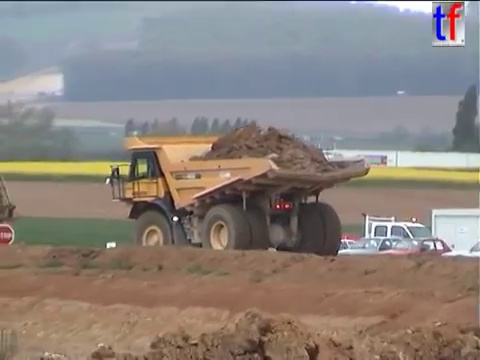excavator: (1, 171, 17, 226)
truck: (103, 132, 372, 264)
